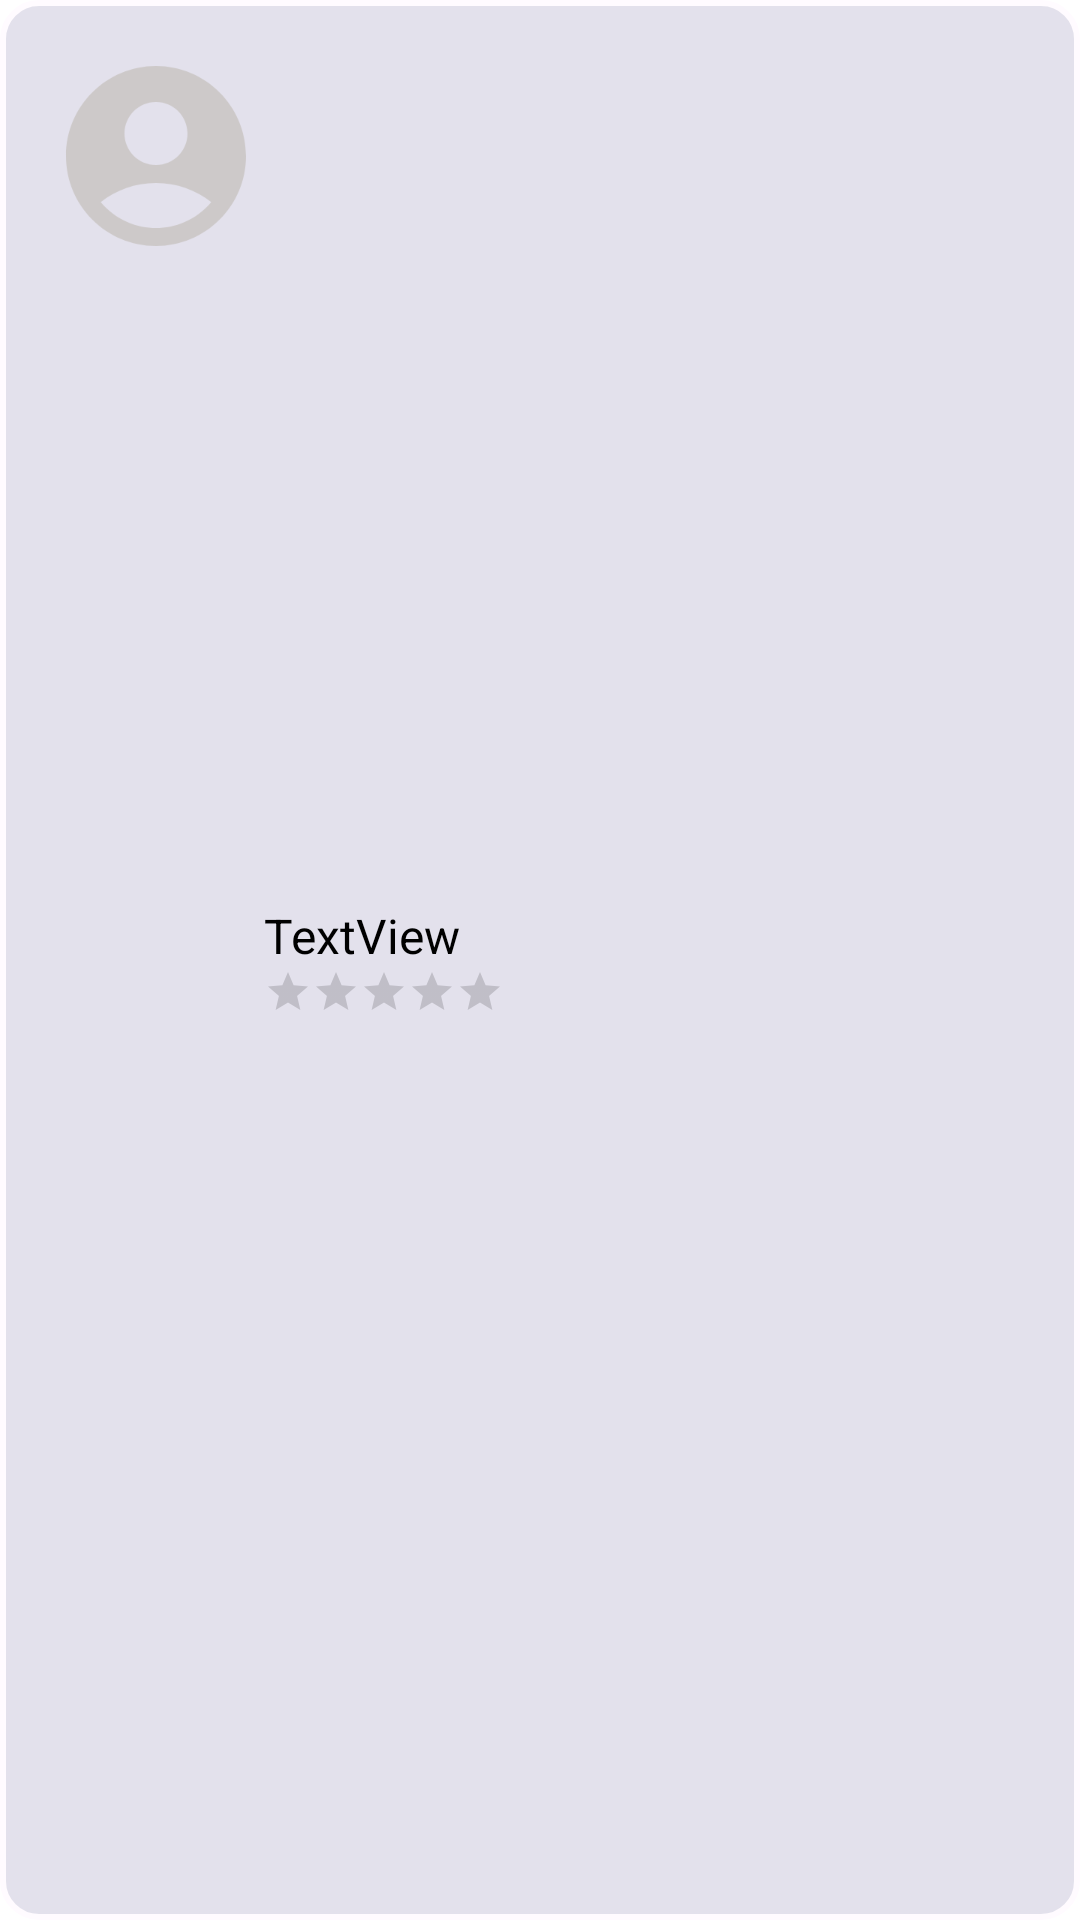

Screen size 1080px x 1920px. Icon name, then its center in pixels as (x,y):
account circle: (156,156)
